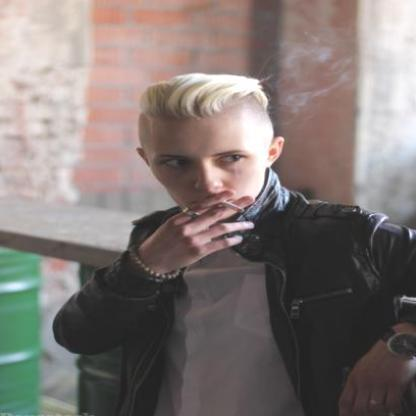cigarette: (219, 202, 247, 214)
person: (89, 73, 383, 415)
smoke: (278, 40, 356, 70), (283, 88, 321, 116)
